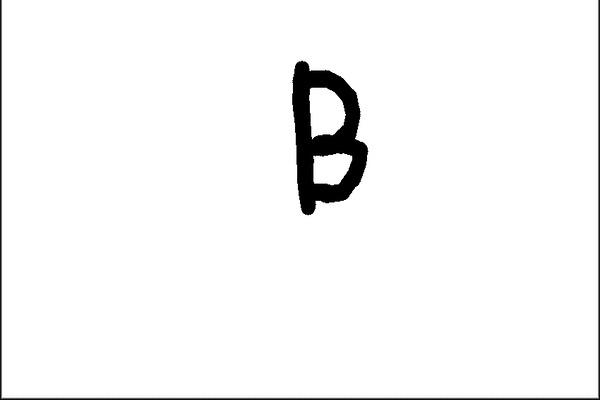B: (281, 52, 379, 218)
